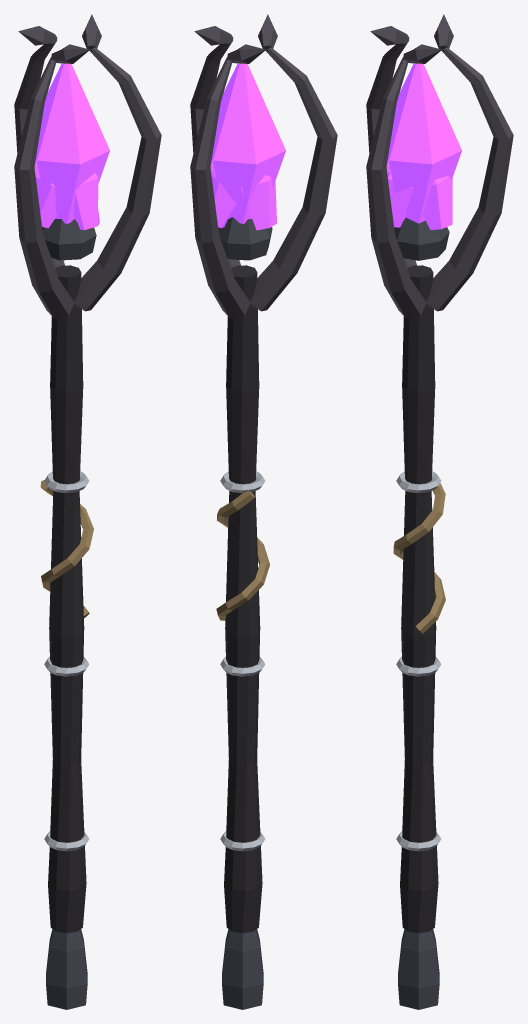
The model's file is staff_voidclaw.glb.
The picture shows the model from 3 angles, left to right: view 1: azimuth 30°, elevation 25°; view 2: azimuth 150°, elevation 25°; view 3: azimuth 270°, elevation 25°; orthographic projection.
Visible parts, largest first — view 1: Vc_Shaft, Vc_Gem, Vc_Claw2, Vc_Claw1, Vc_Butt, Vc_Seat, Vc_Claw0, Vc_Rope, Vc_GemS2, Vc_GemS1, Vc_Band2, Vc_Hook0 (+4 smaller); view 2: Vc_Shaft, Vc_Gem, Vc_Claw1, Vc_Claw0, Vc_Butt, Vc_Seat, Vc_Rope, Vc_Claw2, Vc_GemS1, Vc_GemS0, Vc_Hook2, Vc_Band2 (+4 smaller); view 3: Vc_Shaft, Vc_Gem, Vc_Claw0, Vc_Claw2, Vc_Butt, Vc_Seat, Vc_Rope, Vc_Claw1, Vc_GemS0, Vc_GemS2, Vc_Band2, Vc_Hook1 (+4 smaller).
Boxes of the visible parts, x1=… form: Vc_Shaft: x1=48, y1=265, x2=86, y2=933; Vc_Gem: x1=34, y1=63, x2=109, y2=223; Vc_Claw2: x1=74, y1=47, x2=161, y2=311; Vc_Claw1: x1=14, y1=56, x2=74, y2=318; Vc_Butt: x1=46, y1=929, x2=87, y2=1009; Vc_Seat: x1=42, y1=219, x2=96, y2=260; Vc_Claw0: x1=14, y1=40, x2=64, y2=267; Vc_Rope: x1=40, y1=480, x2=93, y2=617; Vc_GemS2: x1=73, y1=173, x2=99, y2=230; Vc_GemS1: x1=35, y1=169, x2=56, y2=228; Vc_Band2: x1=44, y1=471, x2=89, y2=493; Vc_Hook0: x1=18, y1=26, x2=57, y2=45; Vc_Shaft: x1=224, y1=265, x2=262, y2=933; Vc_Gem: x1=210, y1=63, x2=285, y2=223; Vc_Claw1: x1=250, y1=47, x2=337, y2=311; Vc_Claw0: x1=190, y1=56, x2=250, y2=318; Vc_Butt: x1=222, y1=929, x2=263, y2=1009; Vc_Seat: x1=218, y1=217, x2=272, y2=260; Vc_Rope: x1=216, y1=490, x2=269, y2=620; Vc_Claw2: x1=190, y1=40, x2=240, y2=267; Vc_GemS1: x1=241, y1=175, x2=276, y2=230; Vc_GemS0: x1=210, y1=169, x2=236, y2=227; Vc_Hook2: x1=194, y1=26, x2=233, y2=45; Vc_Band2: x1=220, y1=471, x2=265, y2=493; Vc_Shaft: x1=400, y1=265, x2=438, y2=933; Vc_Gem: x1=386, y1=63, x2=461, y2=223; Vc_Claw0: x1=426, y1=47, x2=513, y2=311; Vc_Claw2: x1=366, y1=56, x2=426, y2=318; Vc_Butt: x1=398, y1=929, x2=439, y2=1009; Vc_Seat: x1=394, y1=217, x2=449, y2=260; Vc_Rope: x1=393, y1=483, x2=445, y2=633; Vc_Claw1: x1=366, y1=40, x2=416, y2=267; Vc_GemS0: x1=423, y1=176, x2=452, y2=229; Vc_GemS2: x1=387, y1=172, x2=413, y2=227; Vc_Band2: x1=396, y1=471, x2=441, y2=493; Vc_Hook1: x1=370, y1=26, x2=409, y2=45.
Size of the model in its own units: 0.3411 by 2.22 by 0.3059.
